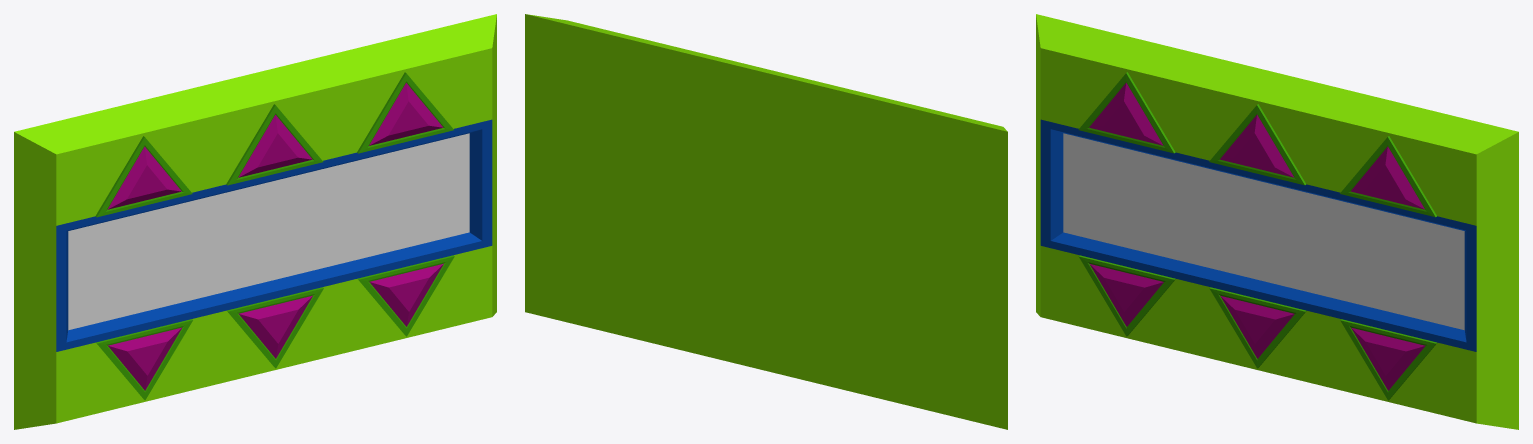
File: Locker_v1.2.fbx
3 renders of one model, left to right at view 1: azimuth 30°, elevation 25°; view 2: azimuth 150°, elevation 25°; view 3: azimuth 330°, elevation 25°, orthographic.
Parts seen in each view (by area): view 1: pPlane20; view 2: pPlane20; view 3: pPlane20.
Part boxes in pixels (x1,y1,x2,y2): pPlane20: [14, 14, 496, 429]; pPlane20: [525, 14, 1007, 429]; pPlane20: [1036, 14, 1518, 429].
Size of the model in its own units: 29.43 by 17.36 by 2.39.
